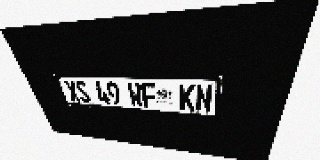4: (93, 81, 111, 105)
9: (105, 81, 123, 105)
F: (140, 83, 157, 108)
K: (179, 84, 195, 111)
N: (195, 84, 213, 112)
S: (74, 81, 92, 103)
W: (126, 82, 144, 107)
X: (63, 80, 81, 102)
